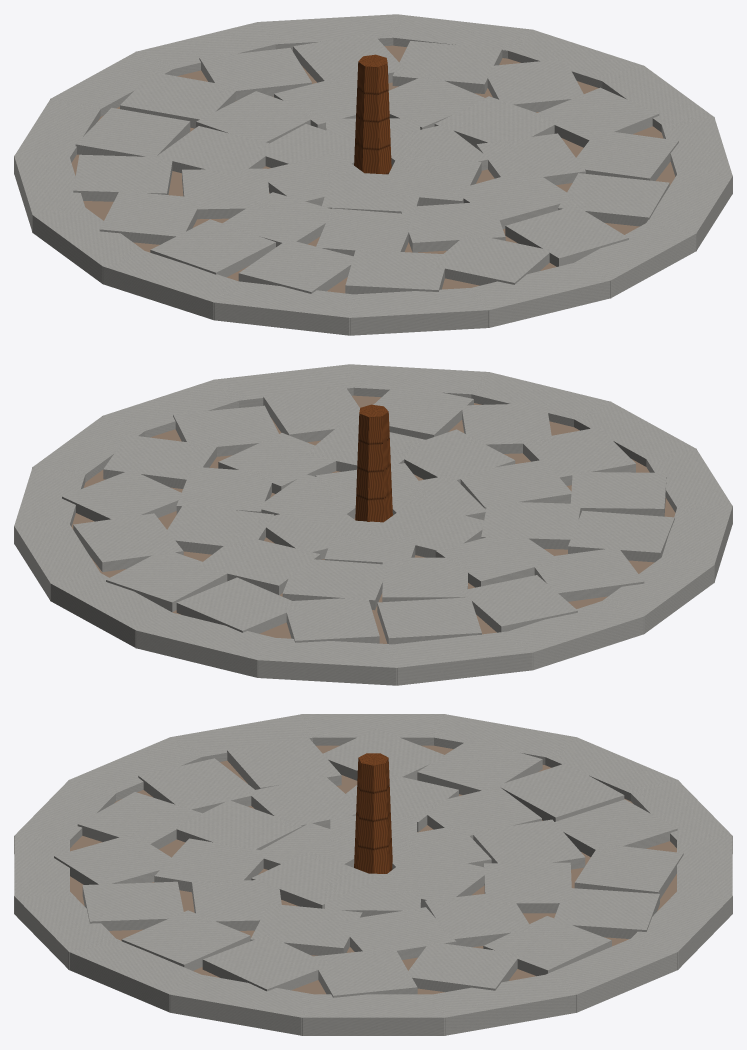
File: andean-terraces-and-stone-village-threshing-floor-plat-b6ebd435__38260.glb
3 views of the same model, one above another, from view 1: azimuth 30°, elevation 25°; view 2: azimuth 150°, elevation 25°; view 3: azimuth 270°, elevation 25° (orthographic).
Parts seen in each view (by area): view 1: threshing-floor-plate-stone, threshing-floor-plate-timber, threshing-floor-plate-earth; view 2: threshing-floor-plate-stone, threshing-floor-plate-timber, threshing-floor-plate-earth; view 3: threshing-floor-plate-stone, threshing-floor-plate-timber, threshing-floor-plate-earth.
Part boxes in pixels (x1,y1,x2,y2): threshing-floor-plate-stone: (14,14,732,335); threshing-floor-plate-timber: (354,54,391,174); threshing-floor-plate-earth: (71,45,675,293); threshing-floor-plate-stone: (14,364,732,685); threshing-floor-plate-timber: (355,404,392,522); threshing-floor-plate-earth: (71,395,675,643); threshing-floor-plate-stone: (14,714,732,1035); threshing-floor-plate-timber: (354,753,392,873); threshing-floor-plate-earth: (70,745,676,994).
Bounding box in the file's own units: 6.47 × 1.24 × 6.47.
Materials: 3 (2 with a texture image).
